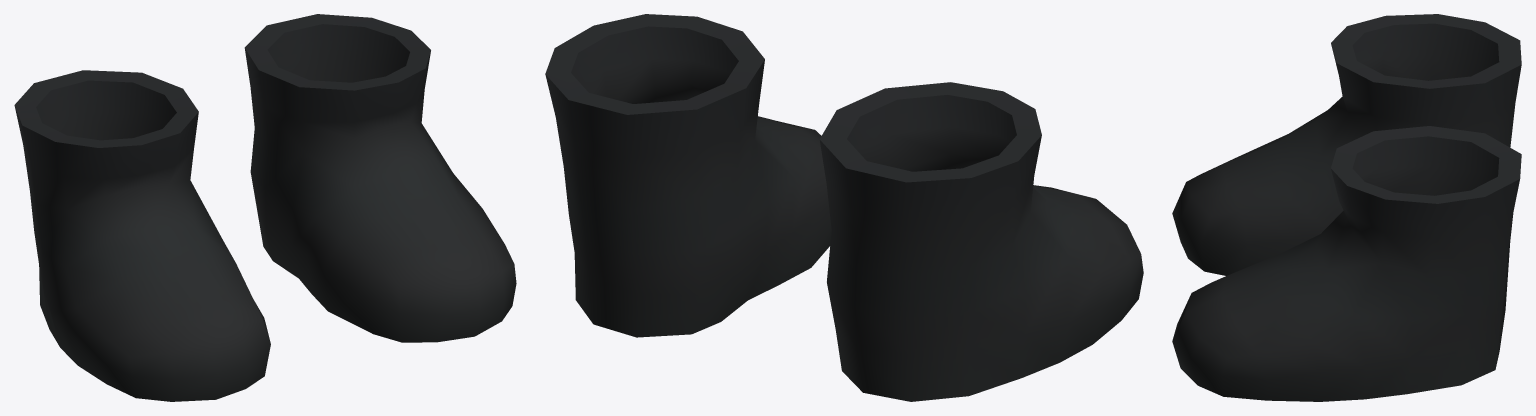
Rendered from Costume_10_05.glb.
3 renders of one model, left to right at view 1: azimuth 30°, elevation 25°; view 2: azimuth 150°, elevation 25°; view 3: azimuth 270°, elevation 25°, orthographic. The views are drawn at different scales.
Visible parts, largest first — view 1: Costume_10_05; view 2: Costume_10_05; view 3: Costume_10_05.
Part boxes in pixels (x1,y1,x2,y2): Costume_10_05: (14, 14, 516, 401); Costume_10_05: (545, 14, 1143, 401); Costume_10_05: (1172, 14, 1521, 401).
Bounding box in the file's own units: 0.2422 × 0.1116 × 0.1768.
1 material, 1 textured.
